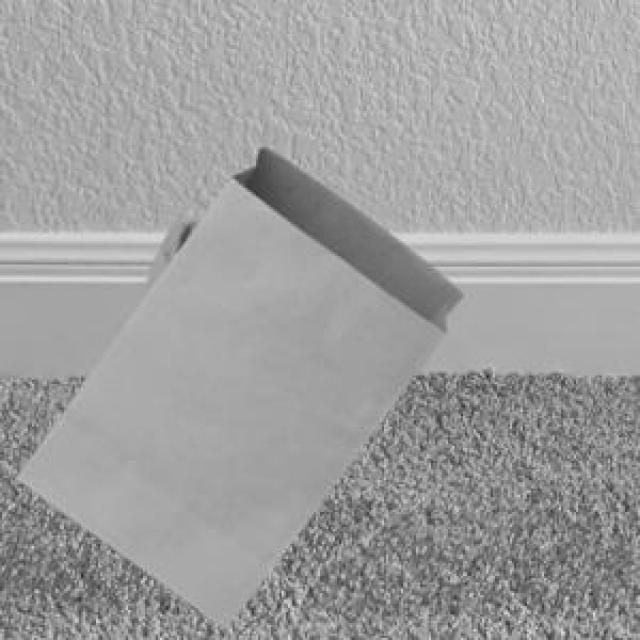paper: (13, 143, 459, 623), (132, 218, 195, 305)
